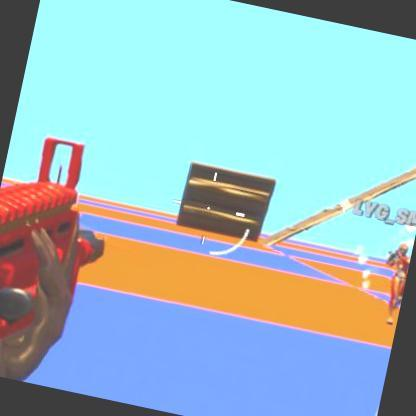person: (378, 240, 412, 326)
